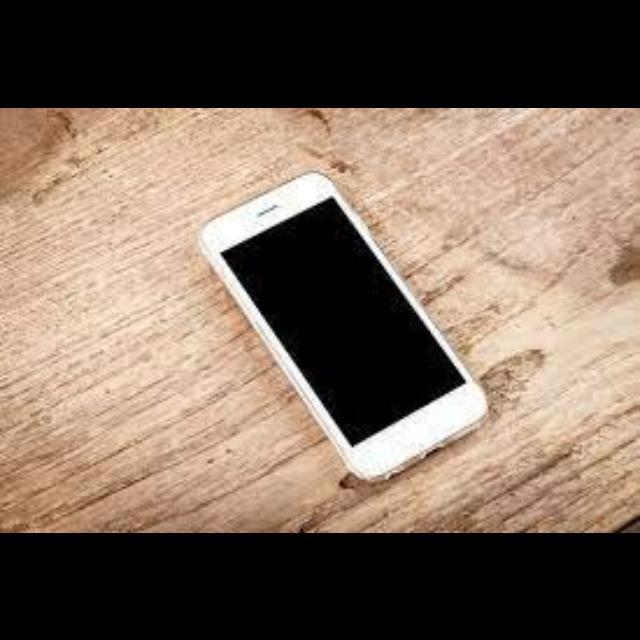Phone: (176, 178, 490, 492)
